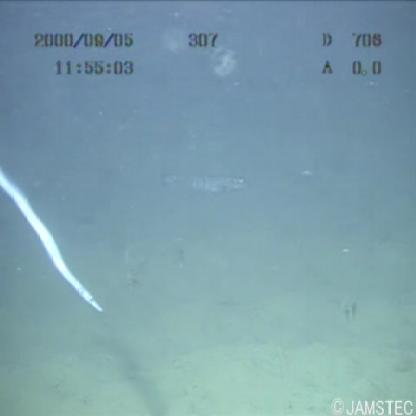Bio: (1, 162, 104, 321)
